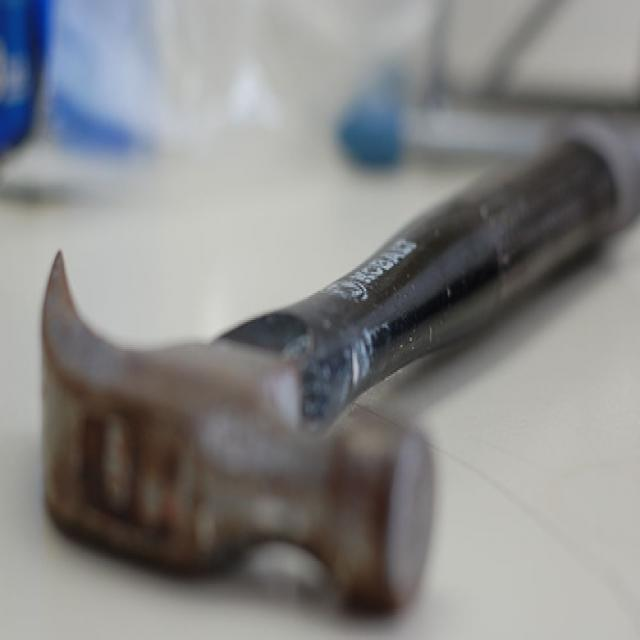hammer: (6, 125, 640, 612)
